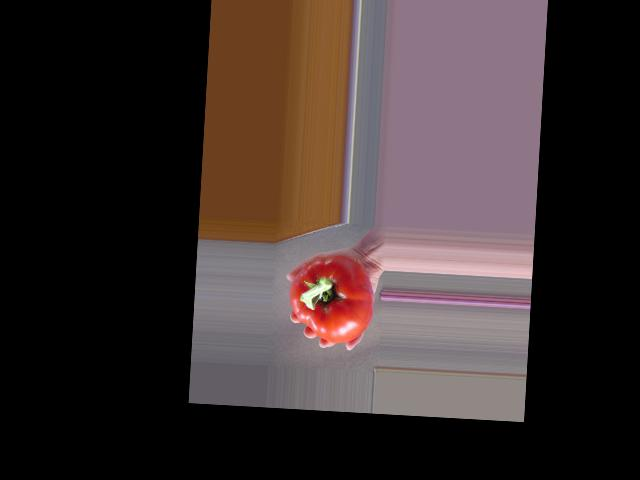tomato: (286, 253, 376, 345)
